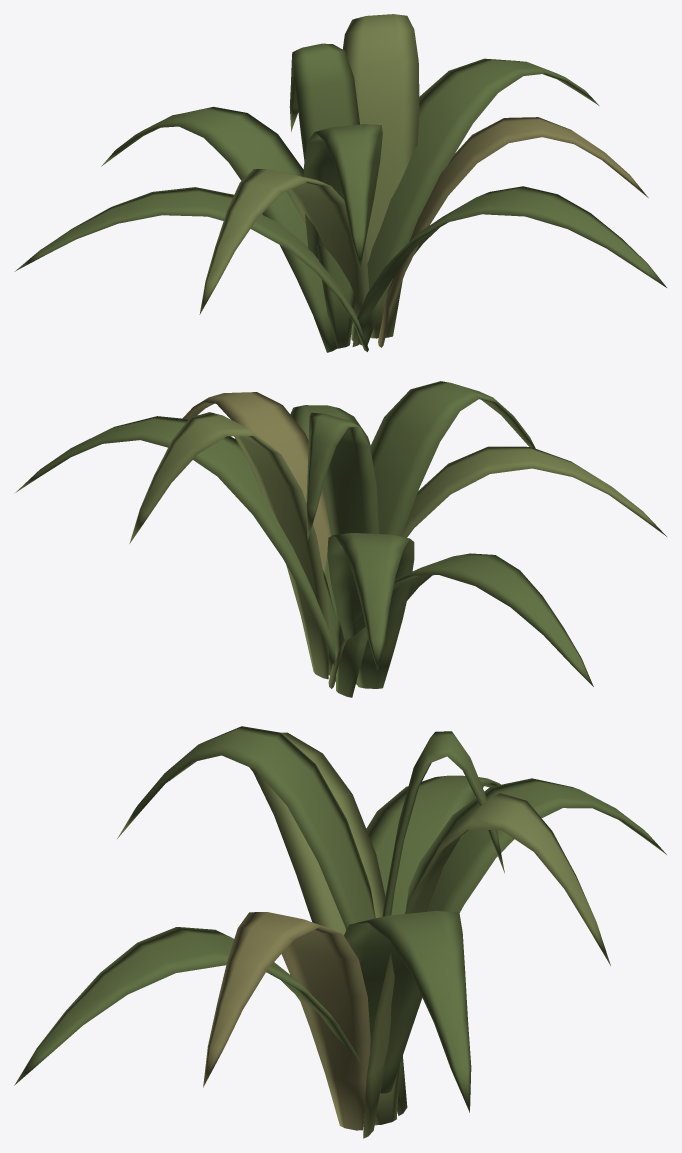
The model's file is city_planting_05_short_tuft-fresh.glb.
3 renders of one model, top to bottom at view 1: azimuth 30°, elevation 25°; view 2: azimuth 150°, elevation 25°; view 3: azimuth 270°, elevation 25°, orthographic. The views are drawn at different scales.
Parts seen in each view (by area): view 1: short_tuft_blades; view 2: short_tuft_blades; view 3: short_tuft_blades.
Boxes of the visible parts, left/top/right/bottom form: short_tuft_blades: left=14, top=14, right=666, bottom=352; short_tuft_blades: left=14, top=381, right=666, bottom=697; short_tuft_blades: left=14, top=726, right=666, bottom=1138.
Bounding box in the file's own units: 0.56 × 0.26 × 0.42.
